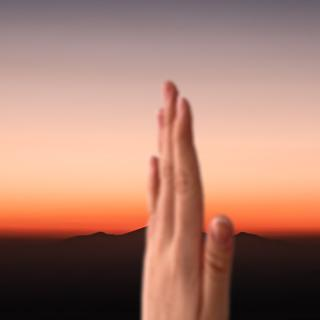Right: (134, 77, 232, 320)
